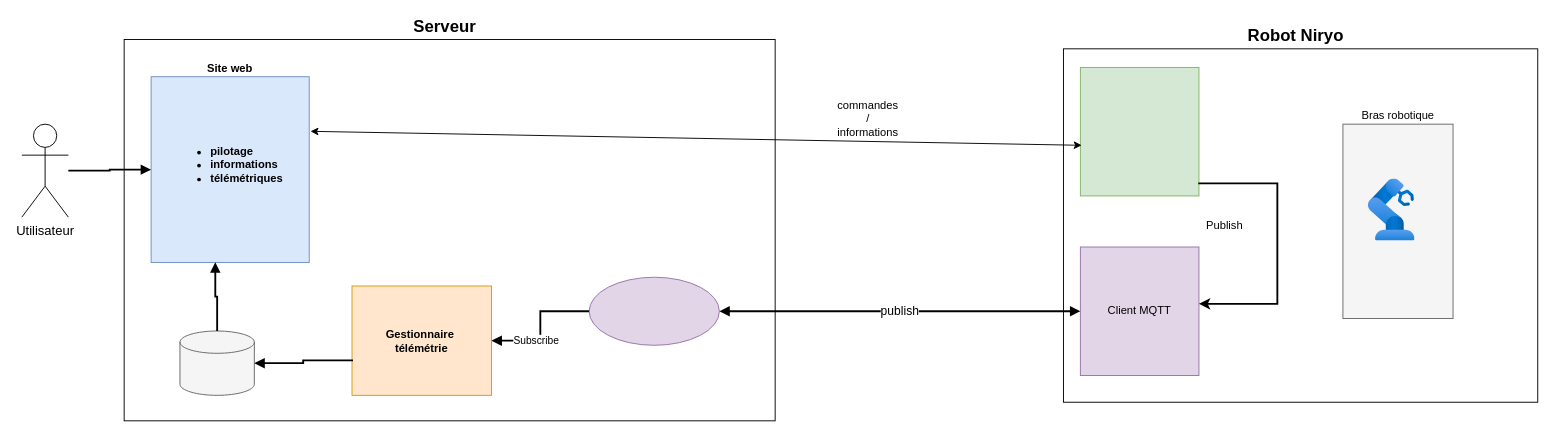
Some shapes in this 1554 by 437 pixel diagram are drawn without their labels. Here are the shapes that lost their labels. From the top down, the centre of each, then its label:
At pixel 1139 131: "API CQRS".
At pixel 653 310: "Broker MQTT".
At pixel 216 362: "BDD".
